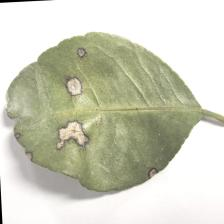canker: (4, 38, 165, 190)
